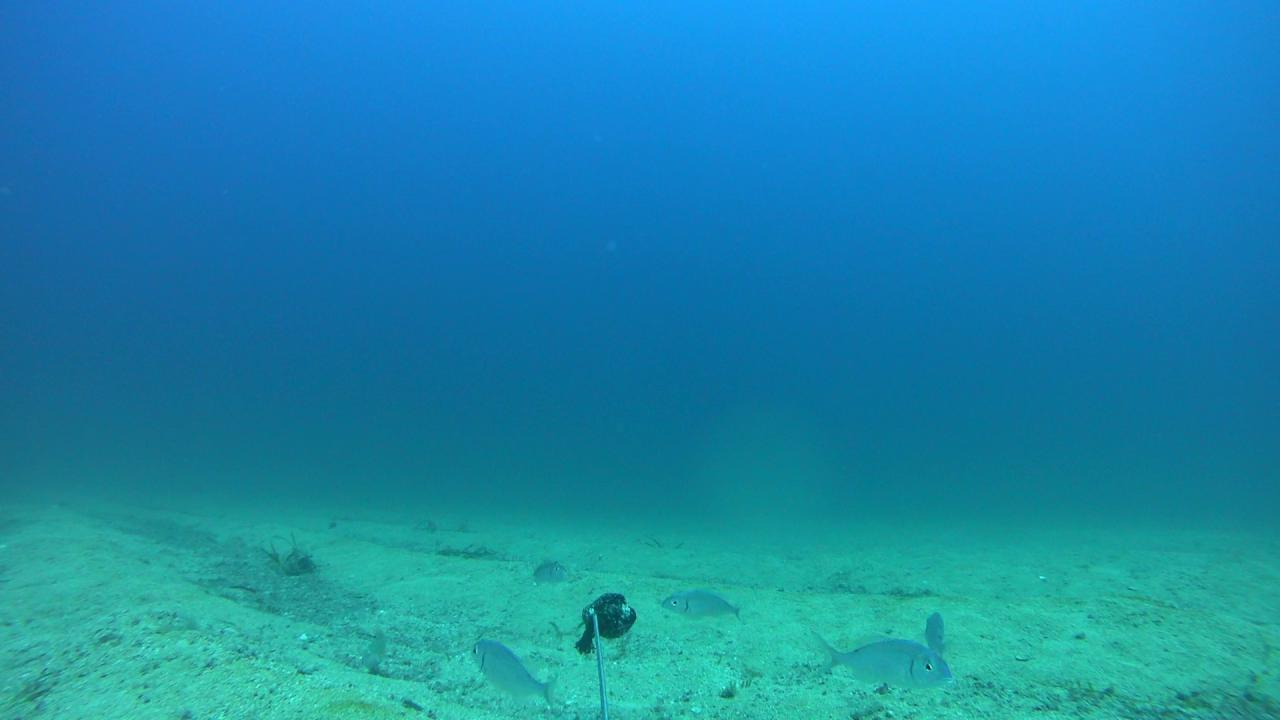pagellus: (810, 628, 953, 687), (470, 638, 559, 711), (659, 591, 742, 623)
